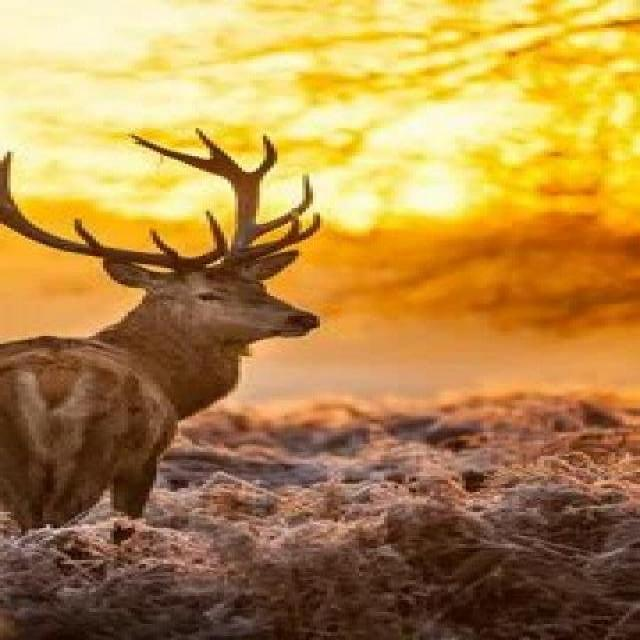deer: (0, 117, 529, 575)
